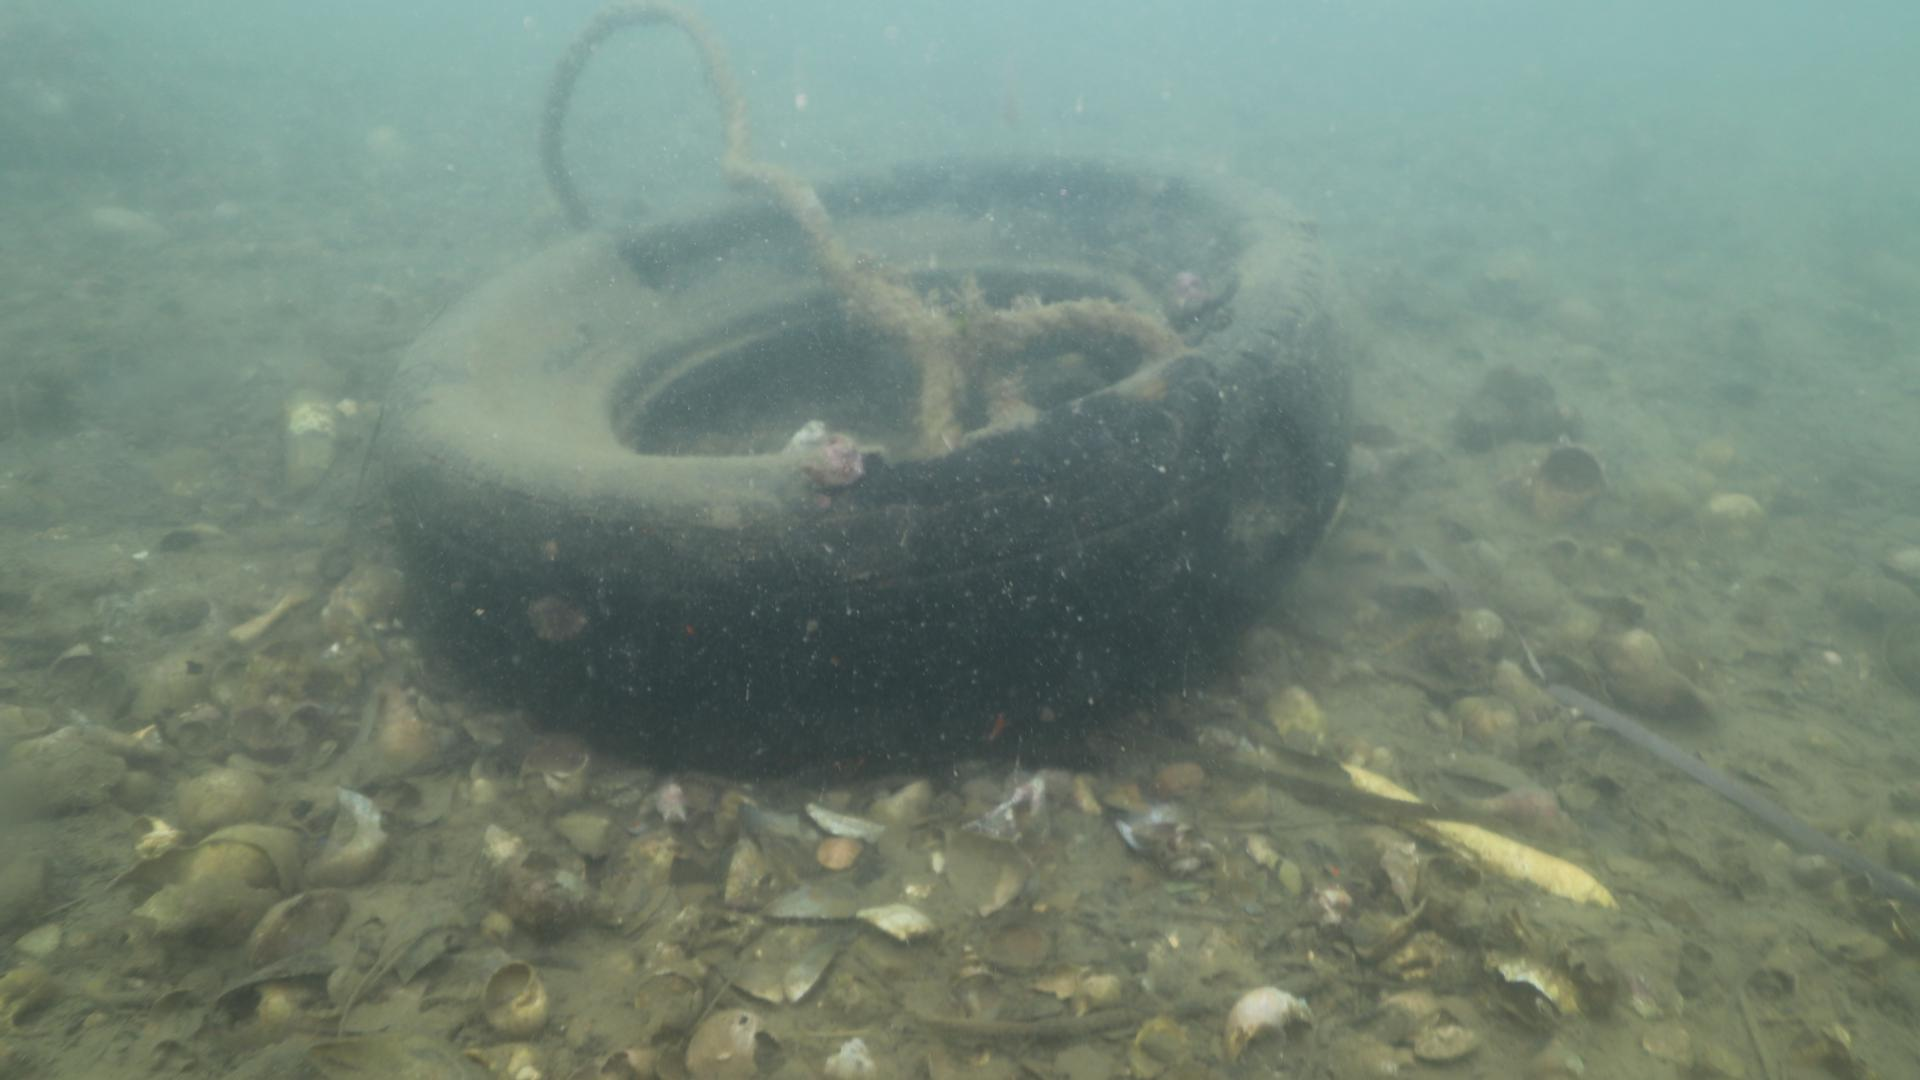rope: (541, 3, 1188, 452)
tire: (384, 142, 1361, 785)
